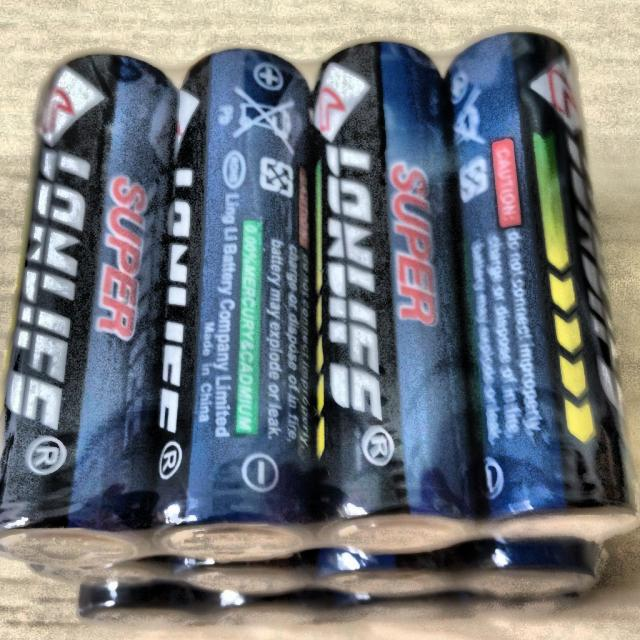Non-Valuable Waste - Batteries: (448, 32, 636, 541), (0, 54, 178, 568), (155, 49, 315, 561), (315, 41, 474, 552)
